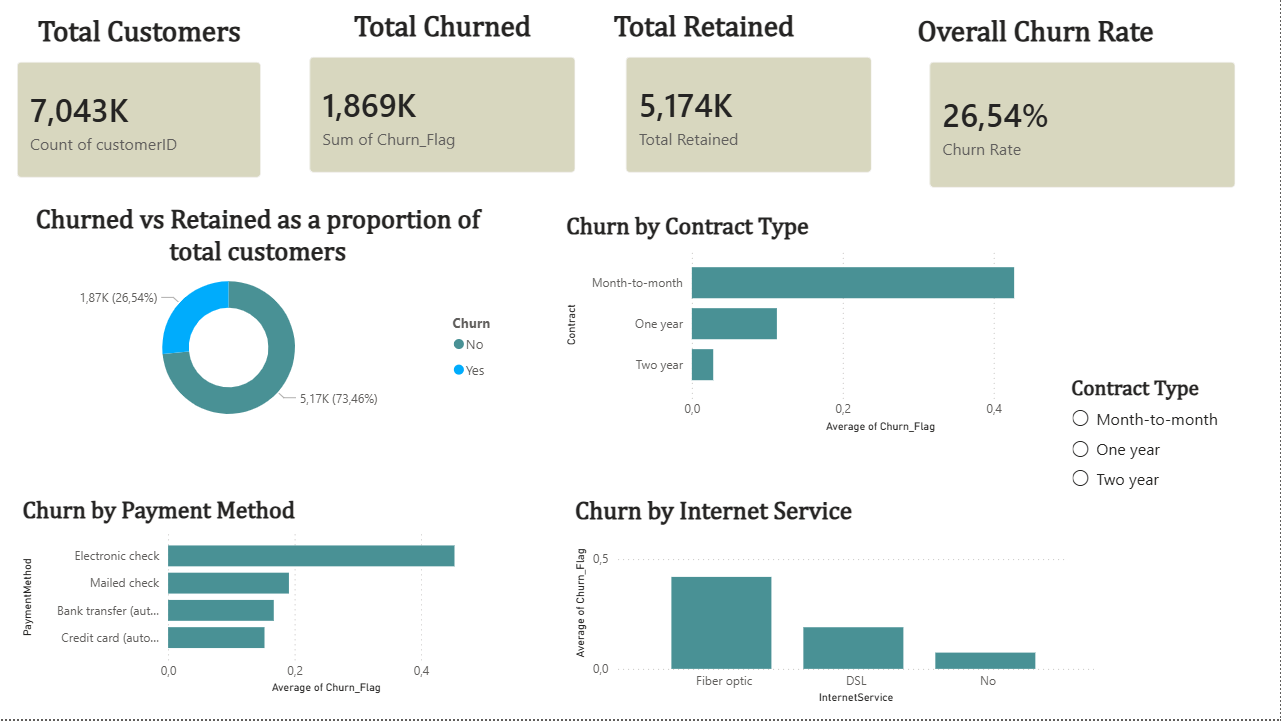

This screenshot's page, from the dashboard's own definition file:
{"tool":"powerbi","page":{"name":"Churn Overview","canvas":[1280,720],"ordinal":0},"visuals":[{"type":"cardVisual","title":"Total Customers","fields":{"Data":["CountNonNull(cleaned_churn_data.customerID)"]},"box":[0,16.2,278.8,180],"z":0},{"type":"cardVisual","title":"Total Churned","fields":{"Data":["Sum(cleaned_churn_data.Churn_Flag)"]},"box":[292.5,11.2,300,180],"z":1000},{"type":"cardVisual","title":"Total Retained","fields":{"Data":["cleaned_churn_data.Total Retained"]},"box":[608.8,11.2,280,180],"z":2000},{"type":"cardVisual","title":"Overall Churn Rate","fields":{"Data":["cleaned_churn_data.Churn Rate"]},"box":[912.5,16.2,340,190],"z":3000},{"type":"donutChart","title":" Churned vs Retained as a proportion of total customers","fields":{"Category":["cleaned_churn_data.Churn"],"Y":["CountNonNull(cleaned_churn_data.Churn)"]},"box":[0,206.7,515.6,232.2],"z":4000},{"type":"clusteredBarChart","title":" Churn by Contract Type","fields":{"Y":["Avg(cleaned_churn_data.Churn_Flag)"],"Category":["cleaned_churn_data.Contract"]},"box":[561.1,215.6,521.1,223.3],"z":5000},{"type":"clusteredColumnChart","title":" Churn by Internet Service","fields":{"Category":["cleaned_churn_data.InternetService"],"Y":["Avg(cleaned_churn_data.Churn_Flag)"]},"box":[570,498.9,528.9,211.1],"z":6000},{"type":"clusteredBarChart","title":" Churn by Payment Method","fields":{"Category":["cleaned_churn_data.PaymentMethod"],"Y":["Avg(cleaned_churn_data.Churn_Flag)"]},"box":[17.8,498.9,480,201.1],"z":7000},{"type":"listSlicer","title":"Contract Type","fields":{"Values":["cleaned_churn_data.Contract"]},"box":[1066.2,377.5,197.5,192.5],"z":8000}]}

Visuals, with their boxes in screenshot pixels (x1, y1, x2, y2), scaled from the page's 1280x720 canvas onto the 1281x727 screenshot:
"Total Customers" cardVisual: [left=0, top=16, right=279, bottom=198]
"Total Churned" cardVisual: [left=293, top=11, right=593, bottom=193]
"Total Retained" cardVisual: [left=609, top=11, right=889, bottom=193]
"Overall Churn Rate" cardVisual: [left=913, top=16, right=1253, bottom=208]
" Churned vs Retained as a proportion of total customers" donutChart: [left=0, top=209, right=516, bottom=443]
" Churn by Contract Type" clusteredBarChart: [left=562, top=218, right=1083, bottom=443]
" Churn by Internet Service" clusteredColumnChart: [left=570, top=504, right=1100, bottom=717]
" Churn by Payment Method" clusteredBarChart: [left=18, top=504, right=498, bottom=707]
"Contract Type" listSlicer: [left=1067, top=381, right=1265, bottom=576]
